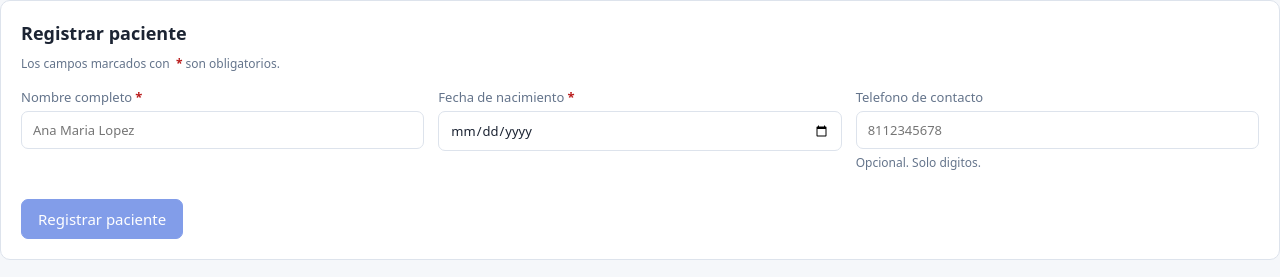
Scenario: PatientForm › rechaza un telefono con mas digitos de los permitidos
The image size is (1280, 277).
Type "81123456789012345" into the field labelled "Telefono de contacto Opcional. Solo digitos." at {"x": 1057, "y": 130}, box [856,111,1259,149]
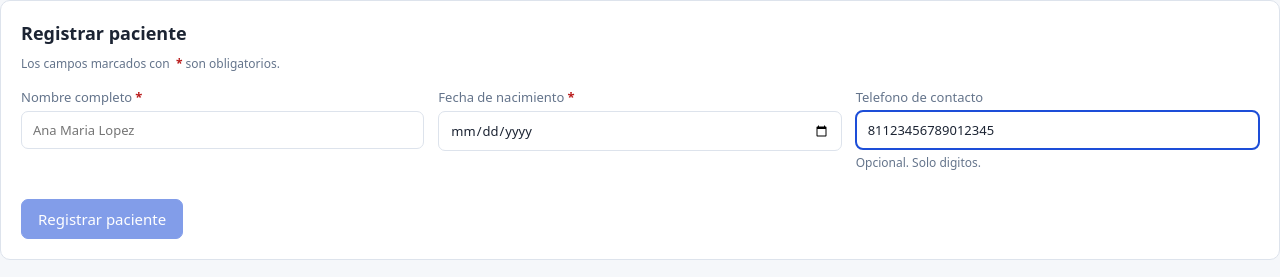
Press Tab
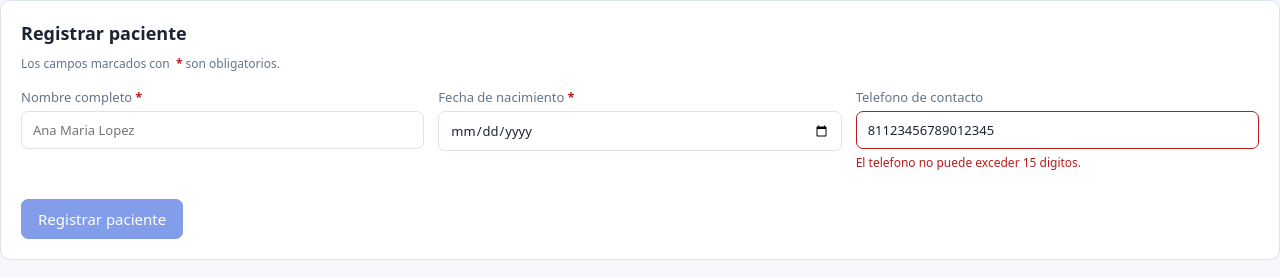
Expected: the text "El telefono no puede exceder 15 digitos." is shown, [856,154,1081,171]
